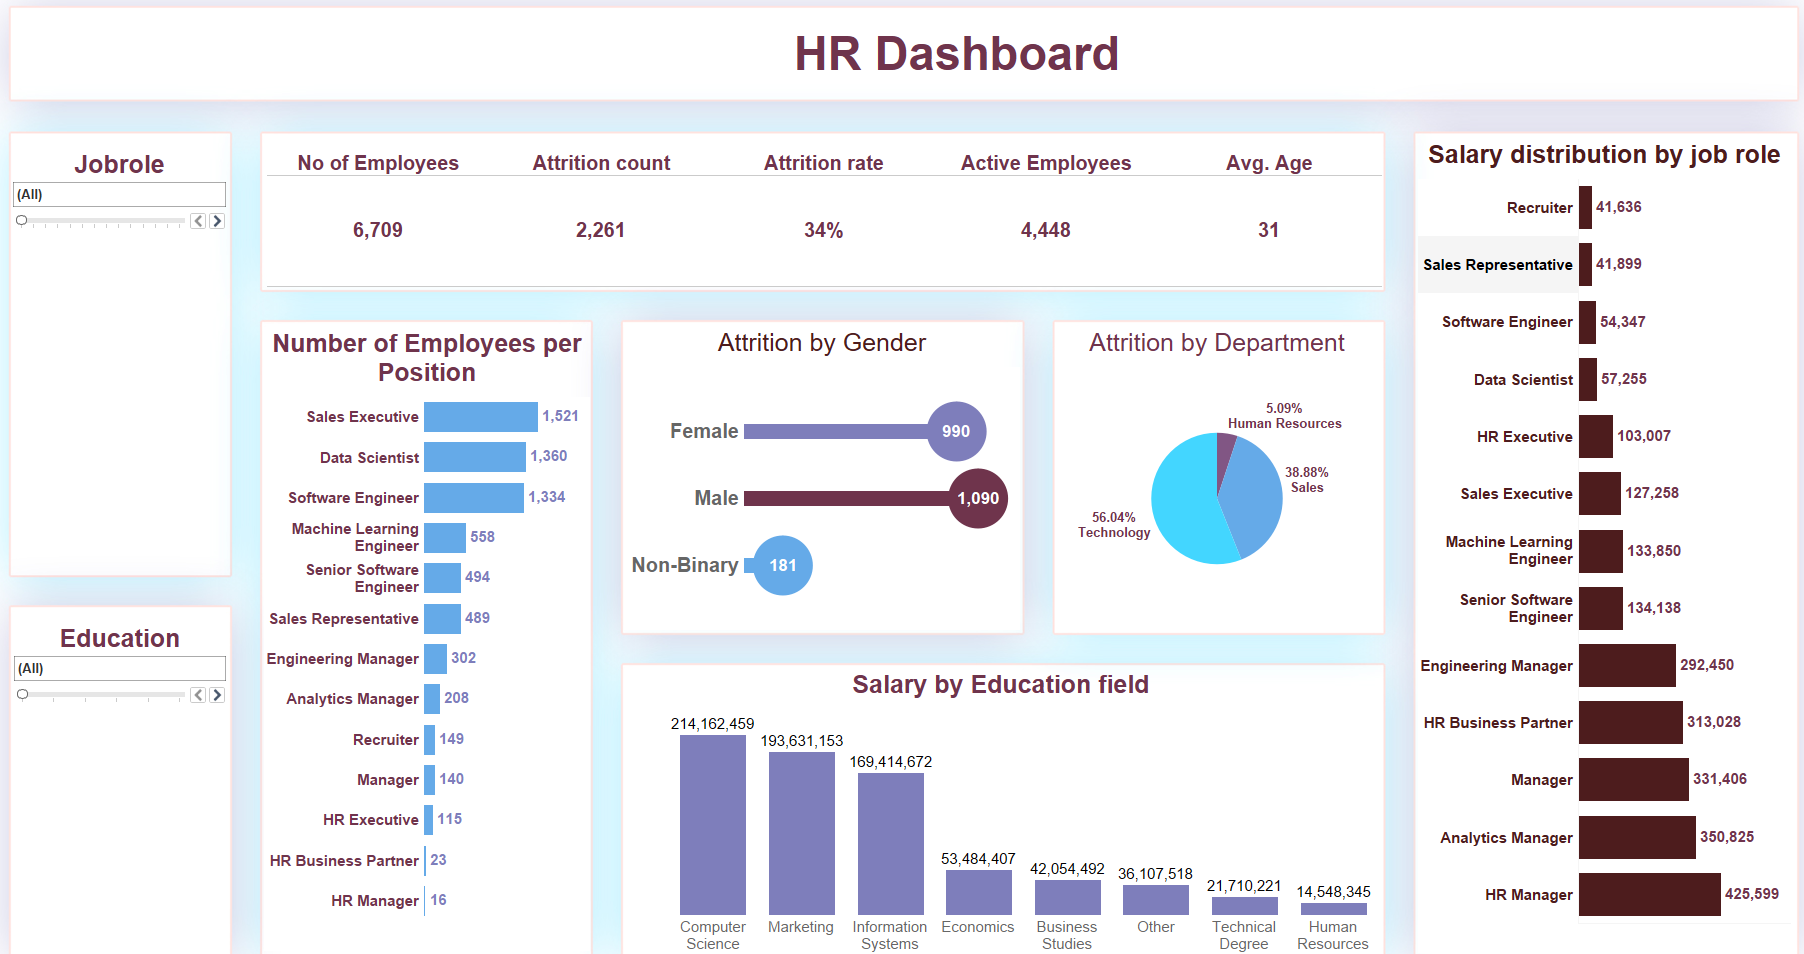

The page's visual inventory and layout, read from the dashboard file:
{"tool":"tableau","page":{"name":"Dashboard 1","canvas":[1920,1080],"ordinal":0},"visuals":[{"type":"text","box":[692,88,666,57]},{"type":"worksheet","title":"KPI","mark":"Automatic","box":[335,198,1115,152]},{"type":"worksheet","title":"Salary distribution by job role","mark":"Automatic","rows":["jobrole"],"cols":["salary"],"box":[1486,199,373,817]},{"type":"filter","title":"KPI","param":"[federated.1iyylef19io1s218z0abj1mur22b].[none:jobrole:nk]","box":[78,213,219,424]},{"type":"worksheet","title":"Attrition by Gender","mark":"Automatic","rows":["gender"],"cols":["Calculation_579275567574052864","Calculation_579275567574052864"],"box":[692,387,396,306]},{"type":"worksheet","title":"Attrition by Department","mark":"Pie","box":[1123,387,324,306]},{"type":"worksheet","title":"Number of Employees per Position","mark":"Automatic","rows":["jobrole"],"cols":["gender"],"box":[332,388,326,626]},{"type":"filter","title":"KPI","param":"[federated.1iyylef19io1s218z0abj1mur22b].[none:education:nk]","box":[79,687,218,328]},{"type":"worksheet","title":"Correlation with education/Salary","mark":"Automatic","rows":["salary"],"cols":["educationfield"],"box":[692,729,754,289]}]}

Visuals, with their boxes on the page's 1920x1080 design canvas (x1, y1, x2, y2). These are canvas units, not pixel positions in the 1804x954 screenshot, which may show the page scaled, cropped or inside an application window:
text: [692, 88, 1358, 145]
"KPI" worksheet: [335, 198, 1450, 350]
"Salary distribution by job role" worksheet: [1486, 199, 1859, 1016]
"KPI" filter: [78, 213, 297, 637]
"Attrition by Gender" worksheet: [692, 387, 1088, 693]
"Attrition by Department" worksheet (Pie marks): [1123, 387, 1447, 693]
"Number of Employees per Position" worksheet: [332, 388, 658, 1014]
"KPI" filter: [79, 687, 297, 1015]
"Correlation with education/Salary" worksheet: [692, 729, 1446, 1018]
